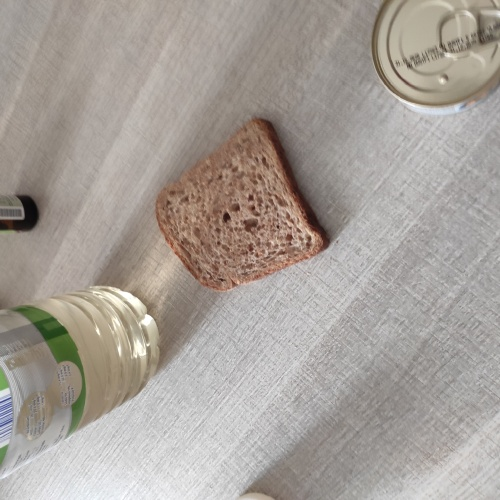pane: (149, 117, 337, 294)
tonno: (364, 3, 493, 118)
